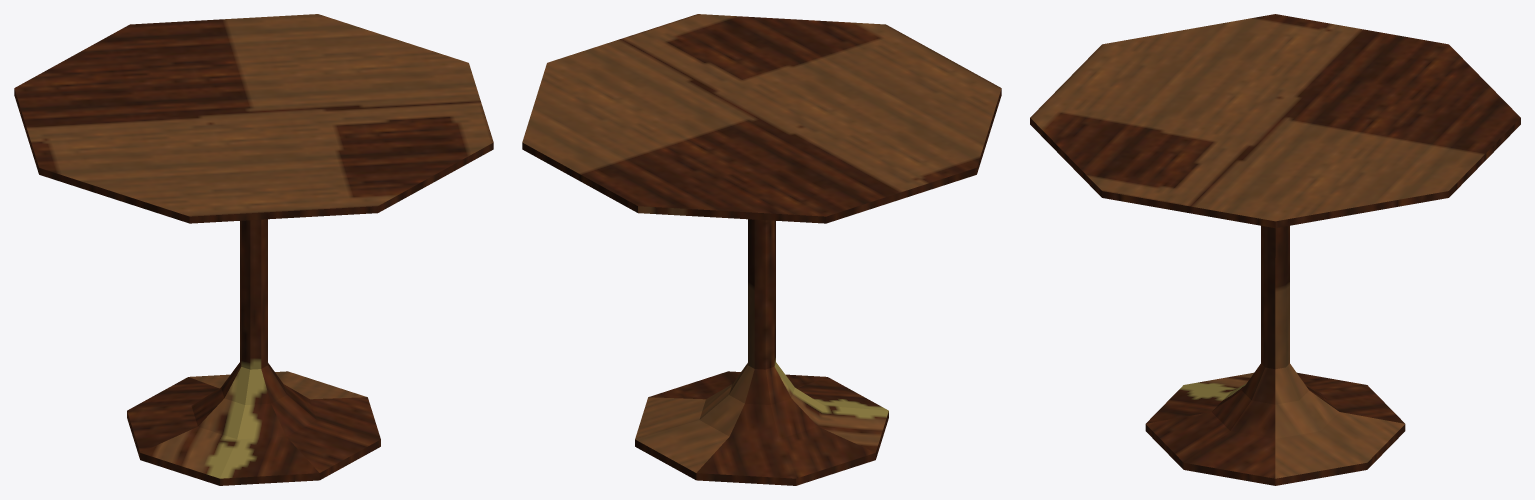
File: table 1.fbx
3 views of the same model, side by side, from view 1: azimuth 30°, elevation 25°; view 2: azimuth 150°, elevation 25°; view 3: azimuth 270°, elevation 25° (orthographic).
Visible parts, largest first — view 1: table; view 2: table; view 3: table.
Boxes of the visible parts, bbox=[...] form: table: bbox=[14, 14, 493, 485]; table: bbox=[522, 14, 1001, 485]; table: bbox=[1030, 14, 1520, 485].
Size of the model in its own units: 88.17 by 62.13 by 88.17.
Materials: 1 (1 with a texture image).
